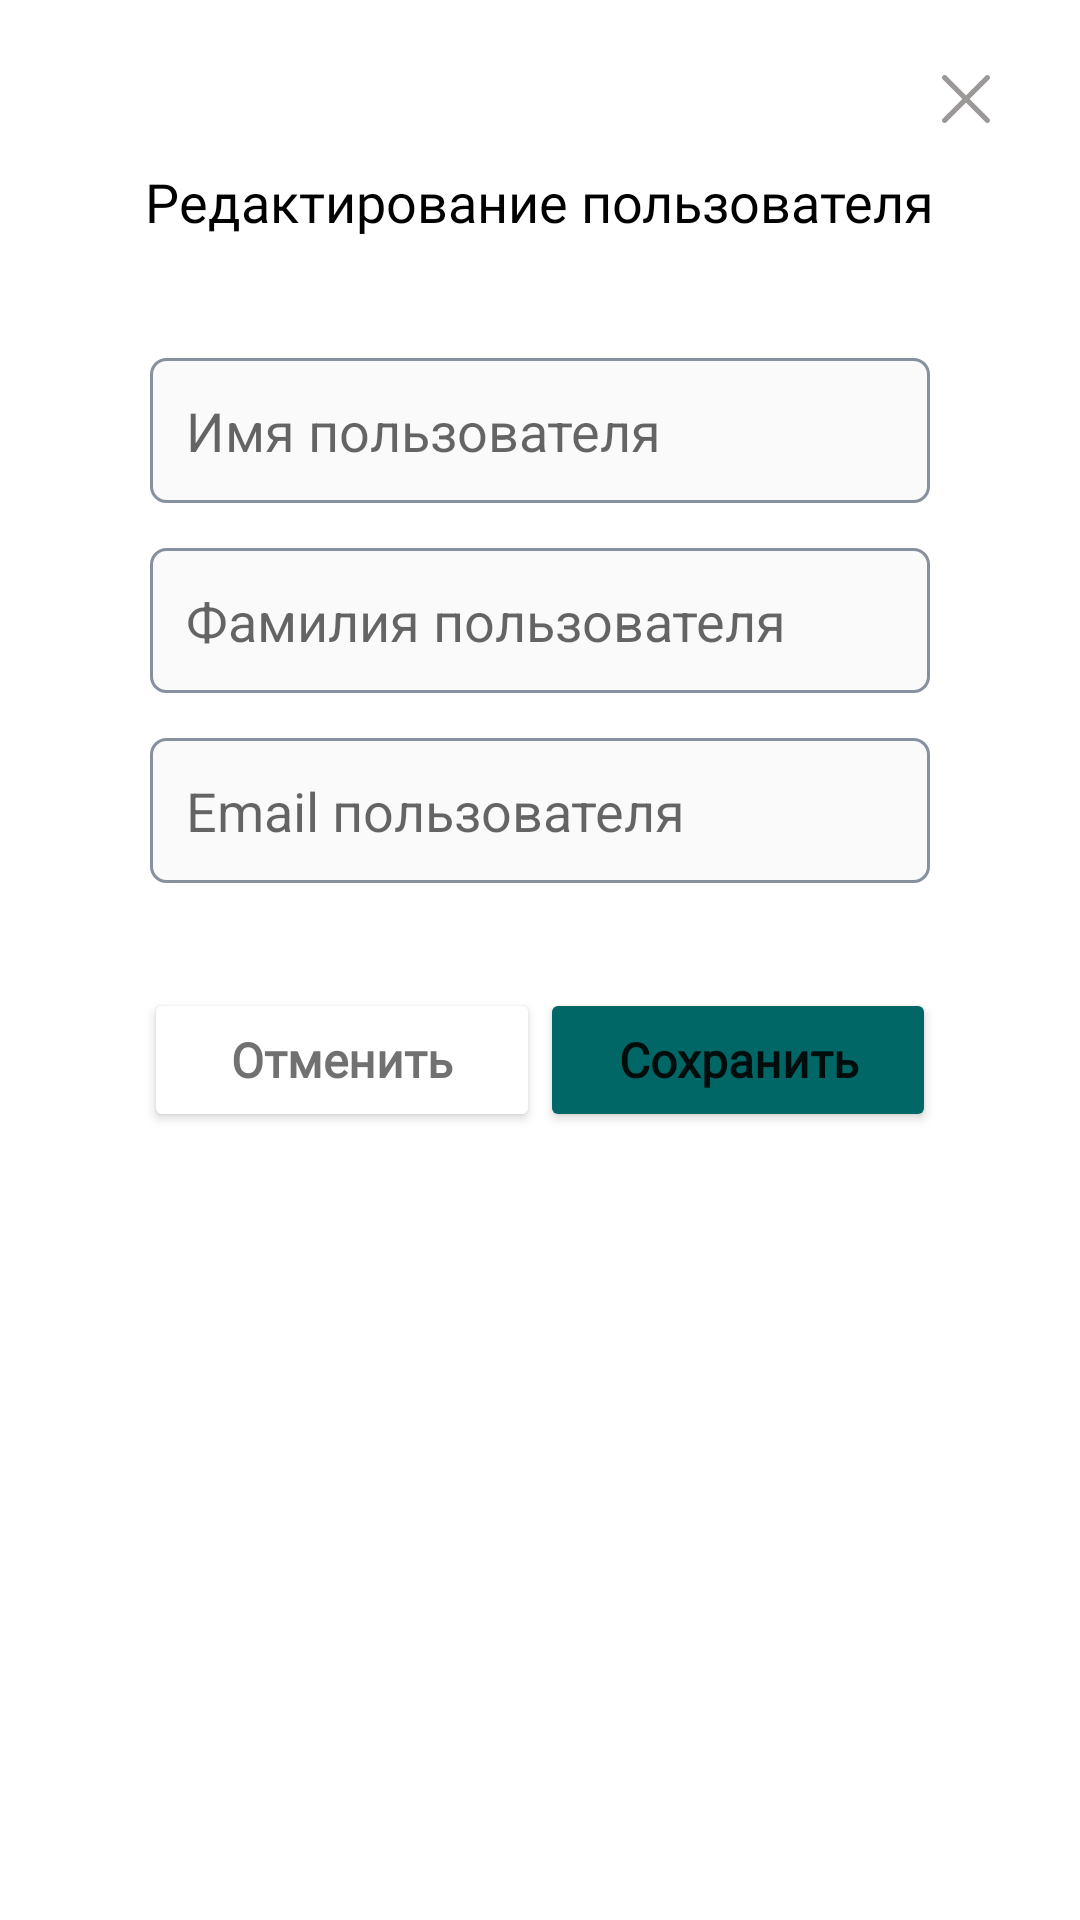

Screen size 1080w x 1920h. Icon name, then its center in pixels as (x=x, y=y):
close: (x=966, y=99)
